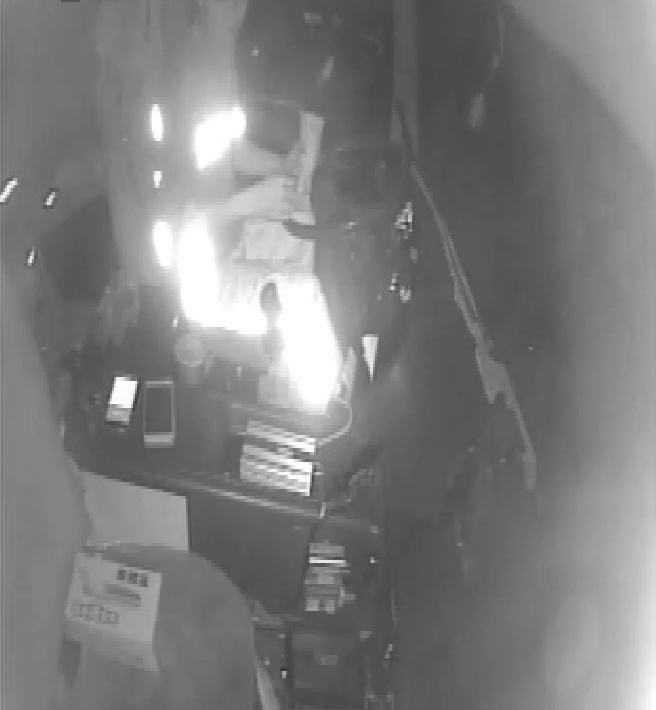cellphone: (101, 372, 141, 432)
